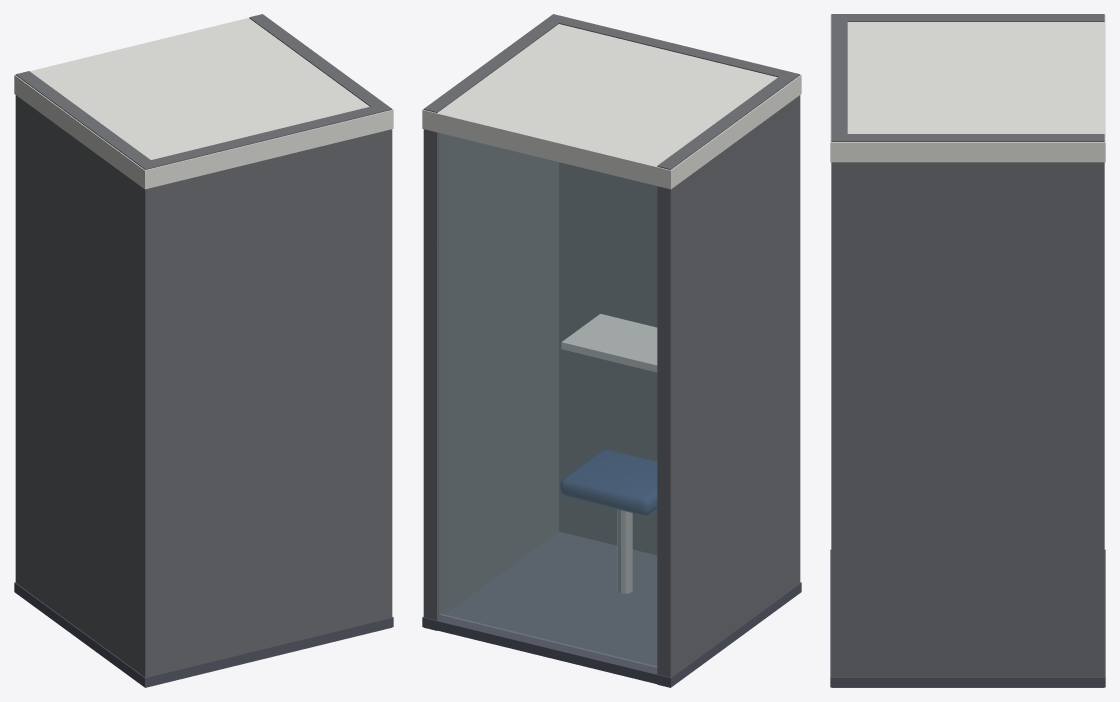
Rendered from office.pod.phone_booth.glb.
3 views of the same model, side by side, from view 1: azimuth 30°, elevation 25°; view 2: azimuth 150°, elevation 25°; view 3: azimuth 270°, elevation 25° (orthographic). The views are drawn at different scales.
Parts seen in each view (by area): view 1: main__fabric_grey, main__laminate_white, main__carpet; view 2: main__fabric_grey, main__glass, main__laminate_white, main__carpet, main__fabric_blue, main__steel_stainless; view 3: main__fabric_grey, main__laminate_white, main__carpet.
Part boxes in pixels (<box>): main__fabric_grey: <box>15,14,392,687</box>; main__laminate_white: <box>14,18,393,189</box>; main__carpet: <box>14,582,393,687</box>; main__fabric_grey: <box>423,14,800,687</box>; main__glass: <box>439,133,656,667</box>; main__laminate_white: <box>422,24,801,372</box>; main__carpet: <box>422,531,801,687</box>; main__fabric_blue: <box>560,449,657,515</box>; main__steel_stainless: <box>617,509,632,593</box>; main__fabric_grey: <box>831,14,1104,687</box>; main__laminate_white: <box>830,14,1105,162</box>; main__carpet: <box>830,549,1105,687</box>.
Bounding box in the file's own units: 1.11 × 2.21 × 1.01.
